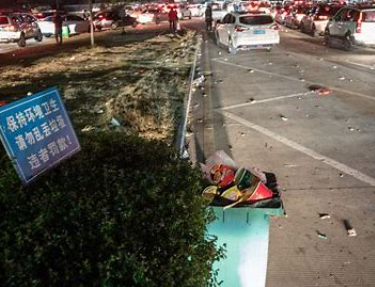garbage: (179, 167, 277, 287), (191, 158, 280, 208), (304, 84, 335, 98), (194, 72, 211, 97), (214, 49, 237, 63), (316, 228, 333, 242), (340, 222, 356, 236), (277, 115, 295, 127), (319, 211, 330, 219), (247, 68, 254, 77)
